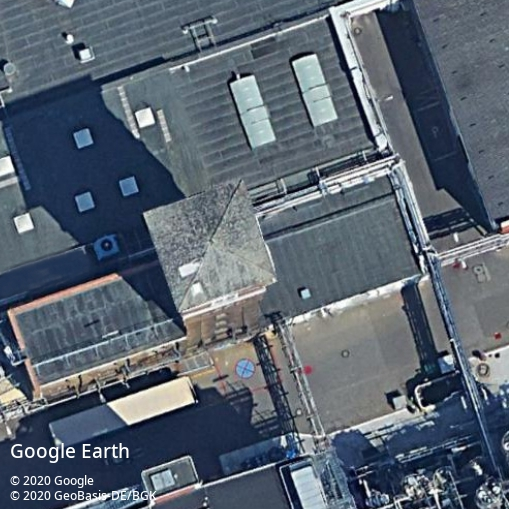Vent: (99, 238, 114, 253)
